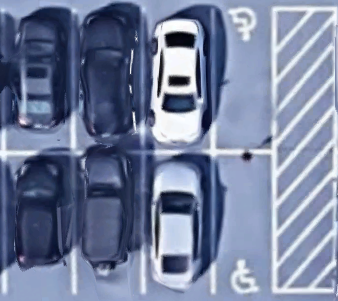Occupied: (2, 9, 74, 153), (143, 9, 213, 153), (3, 154, 74, 294), (74, 9, 143, 153), (74, 153, 144, 294), (143, 153, 213, 293)
Vacant: (212, 9, 274, 152), (213, 152, 275, 292)
